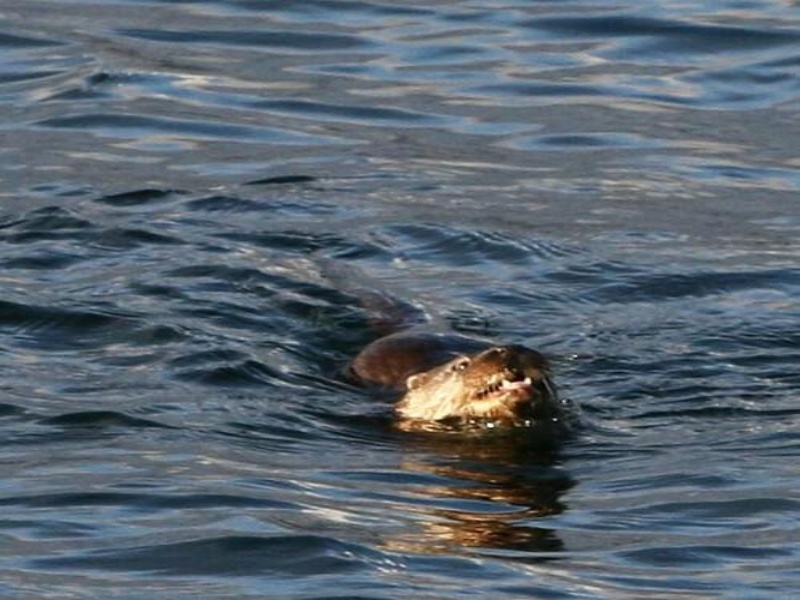minkish: (361, 333, 566, 427)
